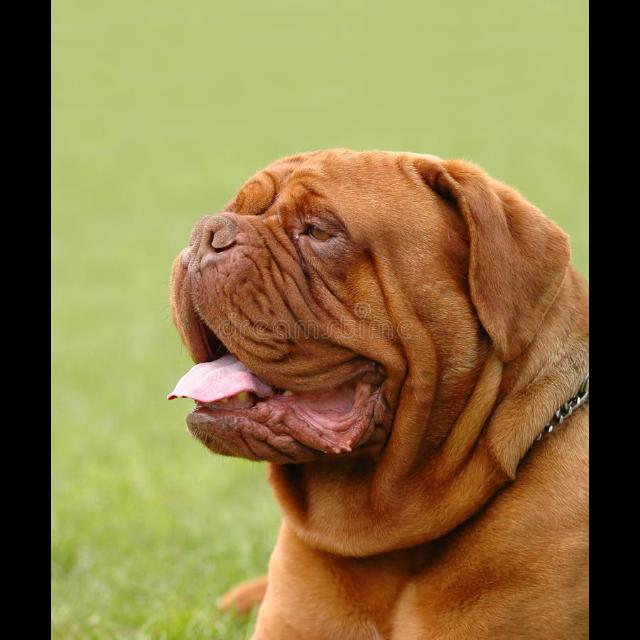dogue_de_bordeaux: (168, 147, 589, 639)
